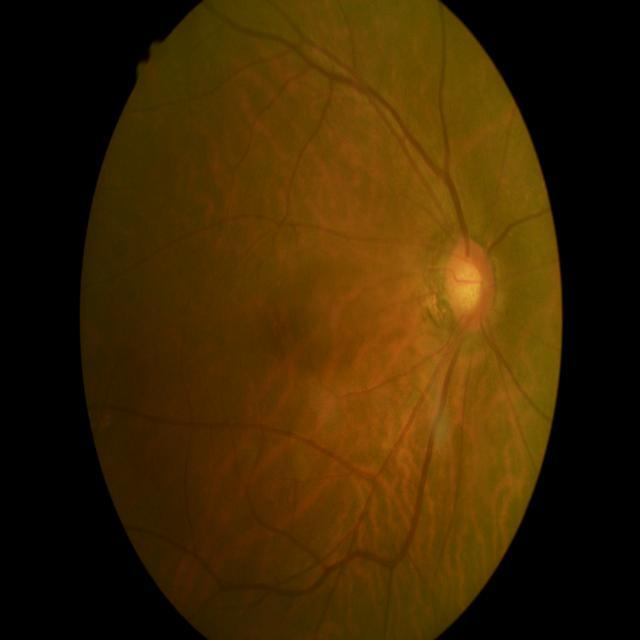cup: (454, 257, 484, 315)
disk: (445, 236, 495, 328)
